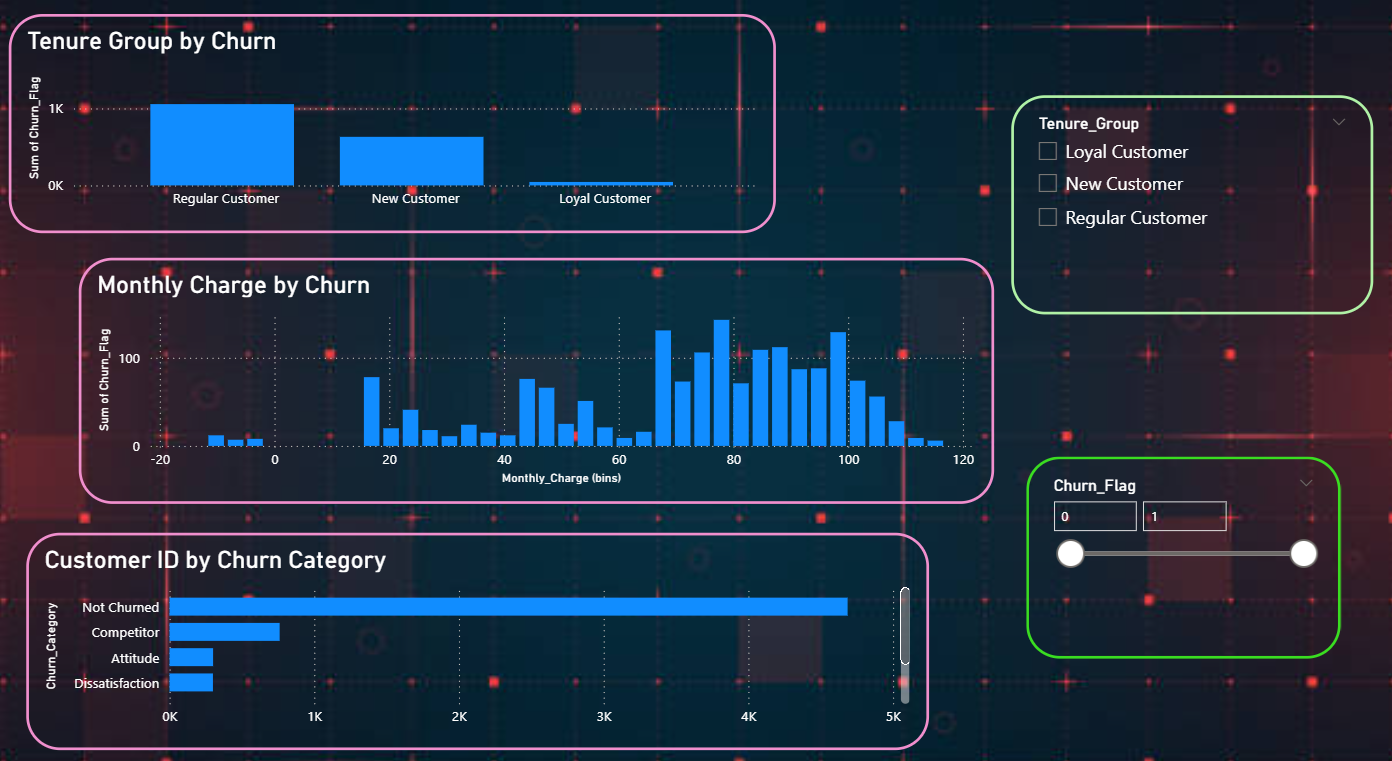

The dashboard page shown, as its layout file describes it:
{"tool":"powerbi","page":{"name":"Churn Drivers Analysis dashboard 2","canvas":[1280,720],"ordinal":1},"visuals":[{"type":"clusteredColumnChart","title":"Tenure Group by Churn","fields":{"Category":["Customer_Data csv (2).Tenure_Group"],"Y":["Sum(Customer_Data csv (2).Churn_Flag)"]},"box":[26.1,17.8,683.4,194.9],"z":0},{"type":"columnChart","title":"Monthly Charge by Churn","fields":{"Y":["Sum(Customer_Data csv (2).Churn_Flag)"],"Category":["Customer_Data csv (2).Monthly_Charge (bins)"]},"box":[87.8,234.6,815.1,219.6],"z":1000},{"type":"barChart","title":"Customer ID by Churn Category","fields":{"Y":["CountNonNull(Customer_Data csv (2).Customer_ID)"],"Category":["Customer_Data csv (2).Churn_Category"]},"box":[41.2,480.3,804.1,193.5],"z":2000},{"type":"slicer","fields":{"Values":["Customer_Data csv (2).Tenure_Group"]},"box":[918,90.6,322.5,194.9],"z":3000},{"type":"slicer","fields":{"Values":["Customer_Data csv (2).Churn_Flag"]},"box":[931.7,411.7,279.9,179.8],"z":4000}]}

Visuals, with their boxes in screenshot pixels (x1, y1, x2, y2), scaled from the page's 1280x720 canvas onto the 1392x761 screenshot:
"Tenure Group by Churn" clusteredColumnChart: pyautogui.locateOnScreen(28, 19, 772, 225)
"Monthly Charge by Churn" columnChart: pyautogui.locateOnScreen(95, 248, 982, 480)
"Customer ID by Churn Category" barChart: pyautogui.locateOnScreen(45, 508, 919, 712)
slicer - Customer_Data csv (2).Tenure_Group: pyautogui.locateOnScreen(998, 96, 1349, 302)
slicer - Customer_Data csv (2).Churn_Flag: pyautogui.locateOnScreen(1013, 435, 1318, 625)
